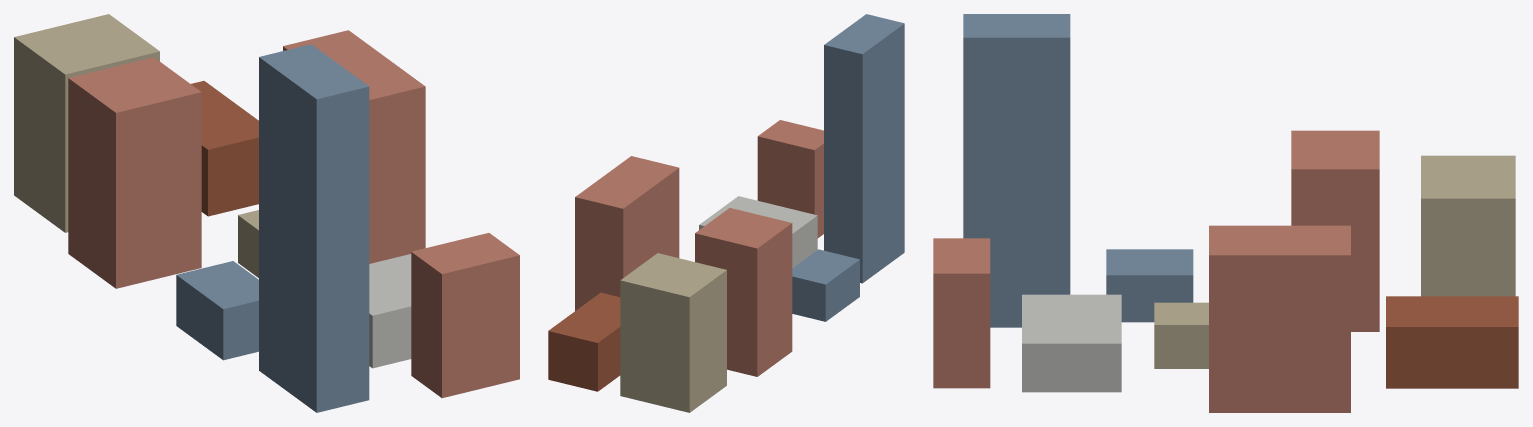
File: synth-10-00.lod2.glb
3 views of the same model, side by side, from view 1: azimuth 30°, elevation 25°; view 2: azimuth 150°, elevation 25°; view 3: azimuth 270°, elevation 25° (orthographic). The views are drawn at different scales.
Visible parts, largest first — view 1: synth-10-00; view 2: synth-10-00; view 3: synth-10-00.
Part boxes in pixels (box(x1,y1,x2,y2)): synth-10-00: box(14, 14, 519, 412); synth-10-00: box(548, 14, 904, 412); synth-10-00: box(933, 14, 1518, 412).
Size of the model in its own units: 43.41 by 49.12 by 89.86.
